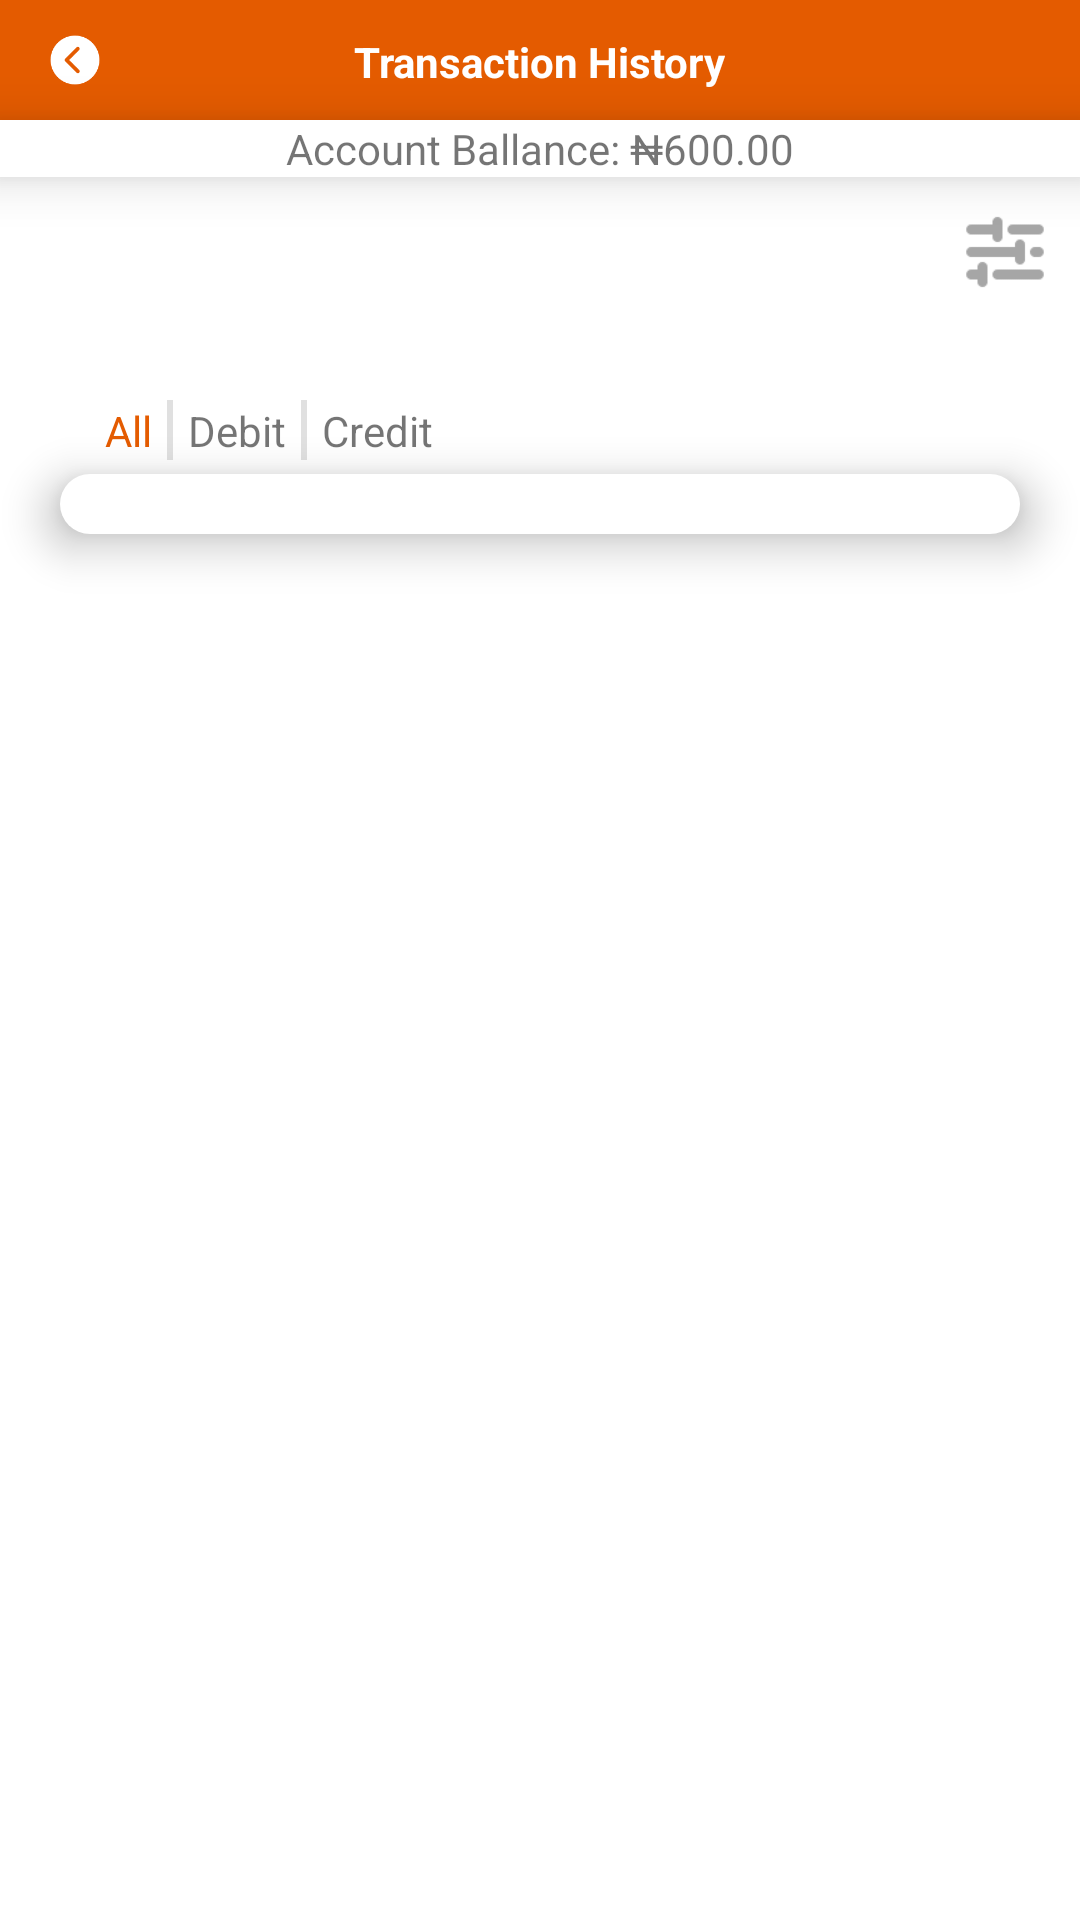

Icons on this 1080 × 1920 Android screen, each with its box as (x1, y1, x2, y2):
back circle: (50, 35, 100, 85)
filter: (966, 217, 1044, 287)
